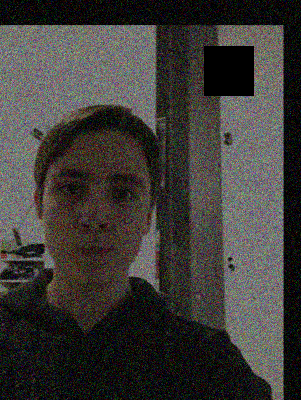without_mask: (42, 160, 148, 288)
